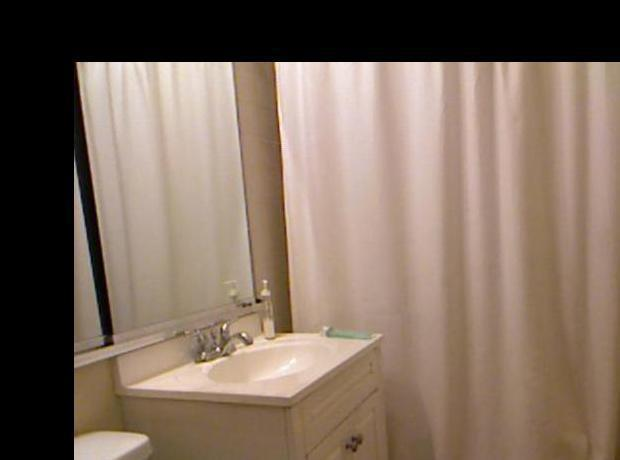Ducha: (292, 63, 620, 460)
Lavamanos: (178, 317, 332, 395)
Sanitario: (74, 433, 183, 460)
